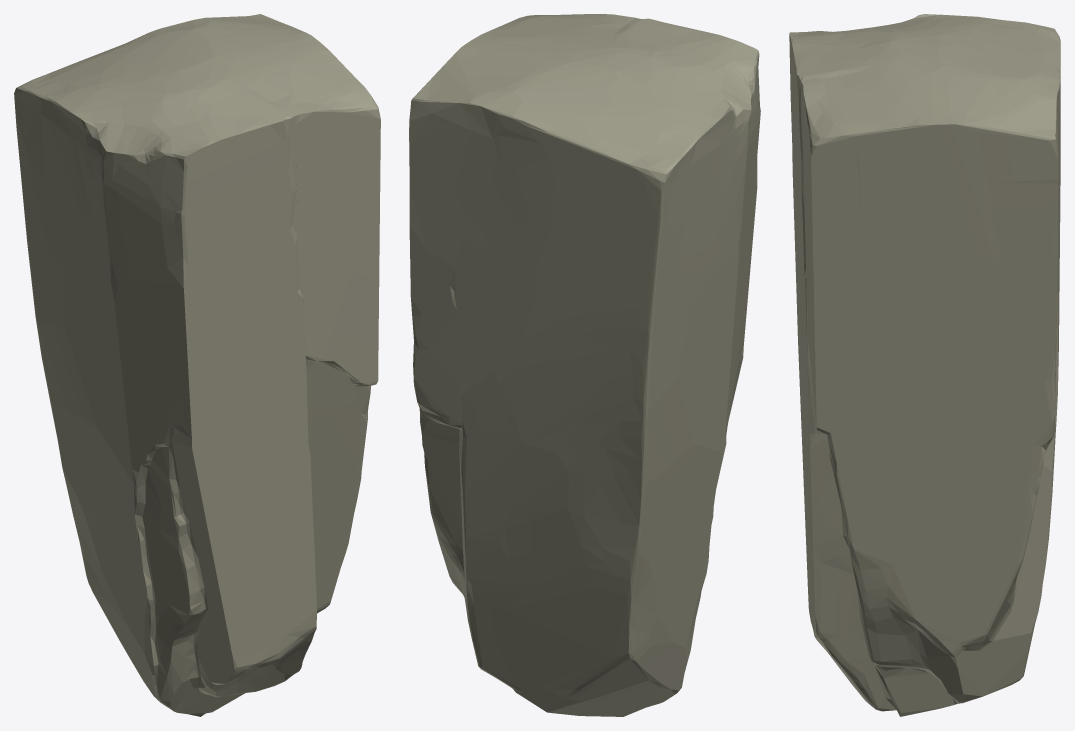
3 renders of one model, left to right at view 1: azimuth 30°, elevation 25°; view 2: azimuth 150°, elevation 25°; view 3: azimuth 270°, elevation 25°, orthographic. The views are drawn at different scales.
Visible parts, largest first — view 1: SM_BM_Cliff_Detail_01_LOD0; view 2: SM_BM_Cliff_Detail_01_LOD0; view 3: SM_BM_Cliff_Detail_01_LOD0.
Boxes of the visible parts, left/top/right/bottom form: SM_BM_Cliff_Detail_01_LOD0: left=14, top=14, right=380, bottom=716; SM_BM_Cliff_Detail_01_LOD0: left=409, top=14, right=760, bottom=716; SM_BM_Cliff_Detail_01_LOD0: left=789, top=14, right=1060, bottom=716.
Bounding box in the file's own units: 6.18 × 15.24 × 5.71.
